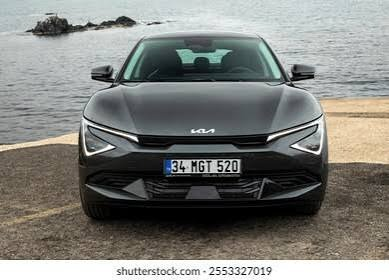car: (72, 31, 332, 228), (99, 35, 308, 109)
